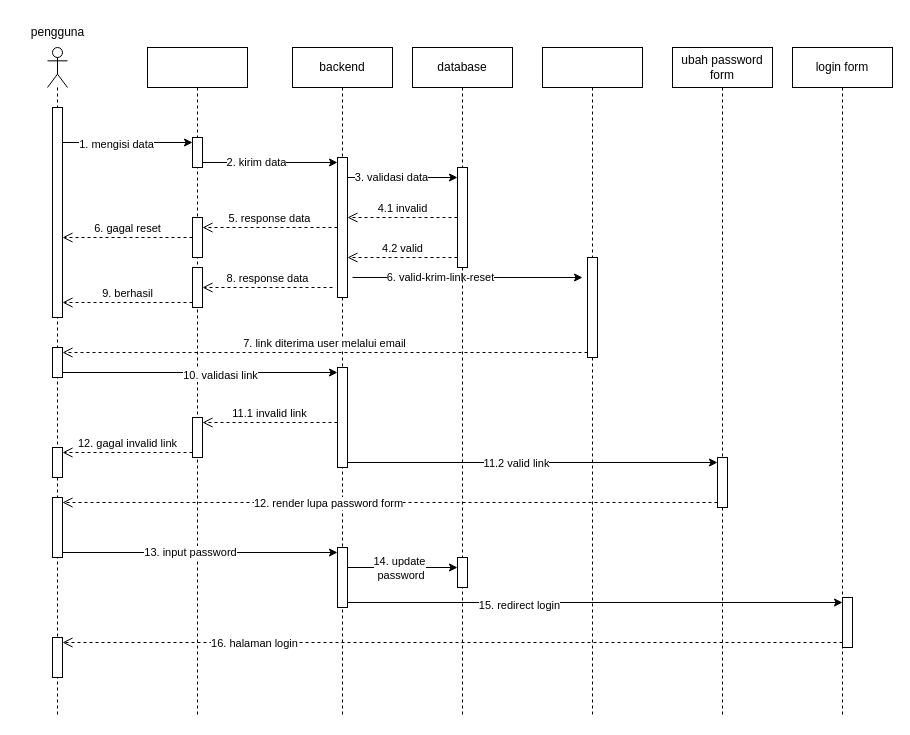
This 910x735 diagram has some shape labels left out. Each missing label, with the centre of its shape:
"email" belongs at pixel 592 382.
"lupa password form" belongs at pixel 197 382.
